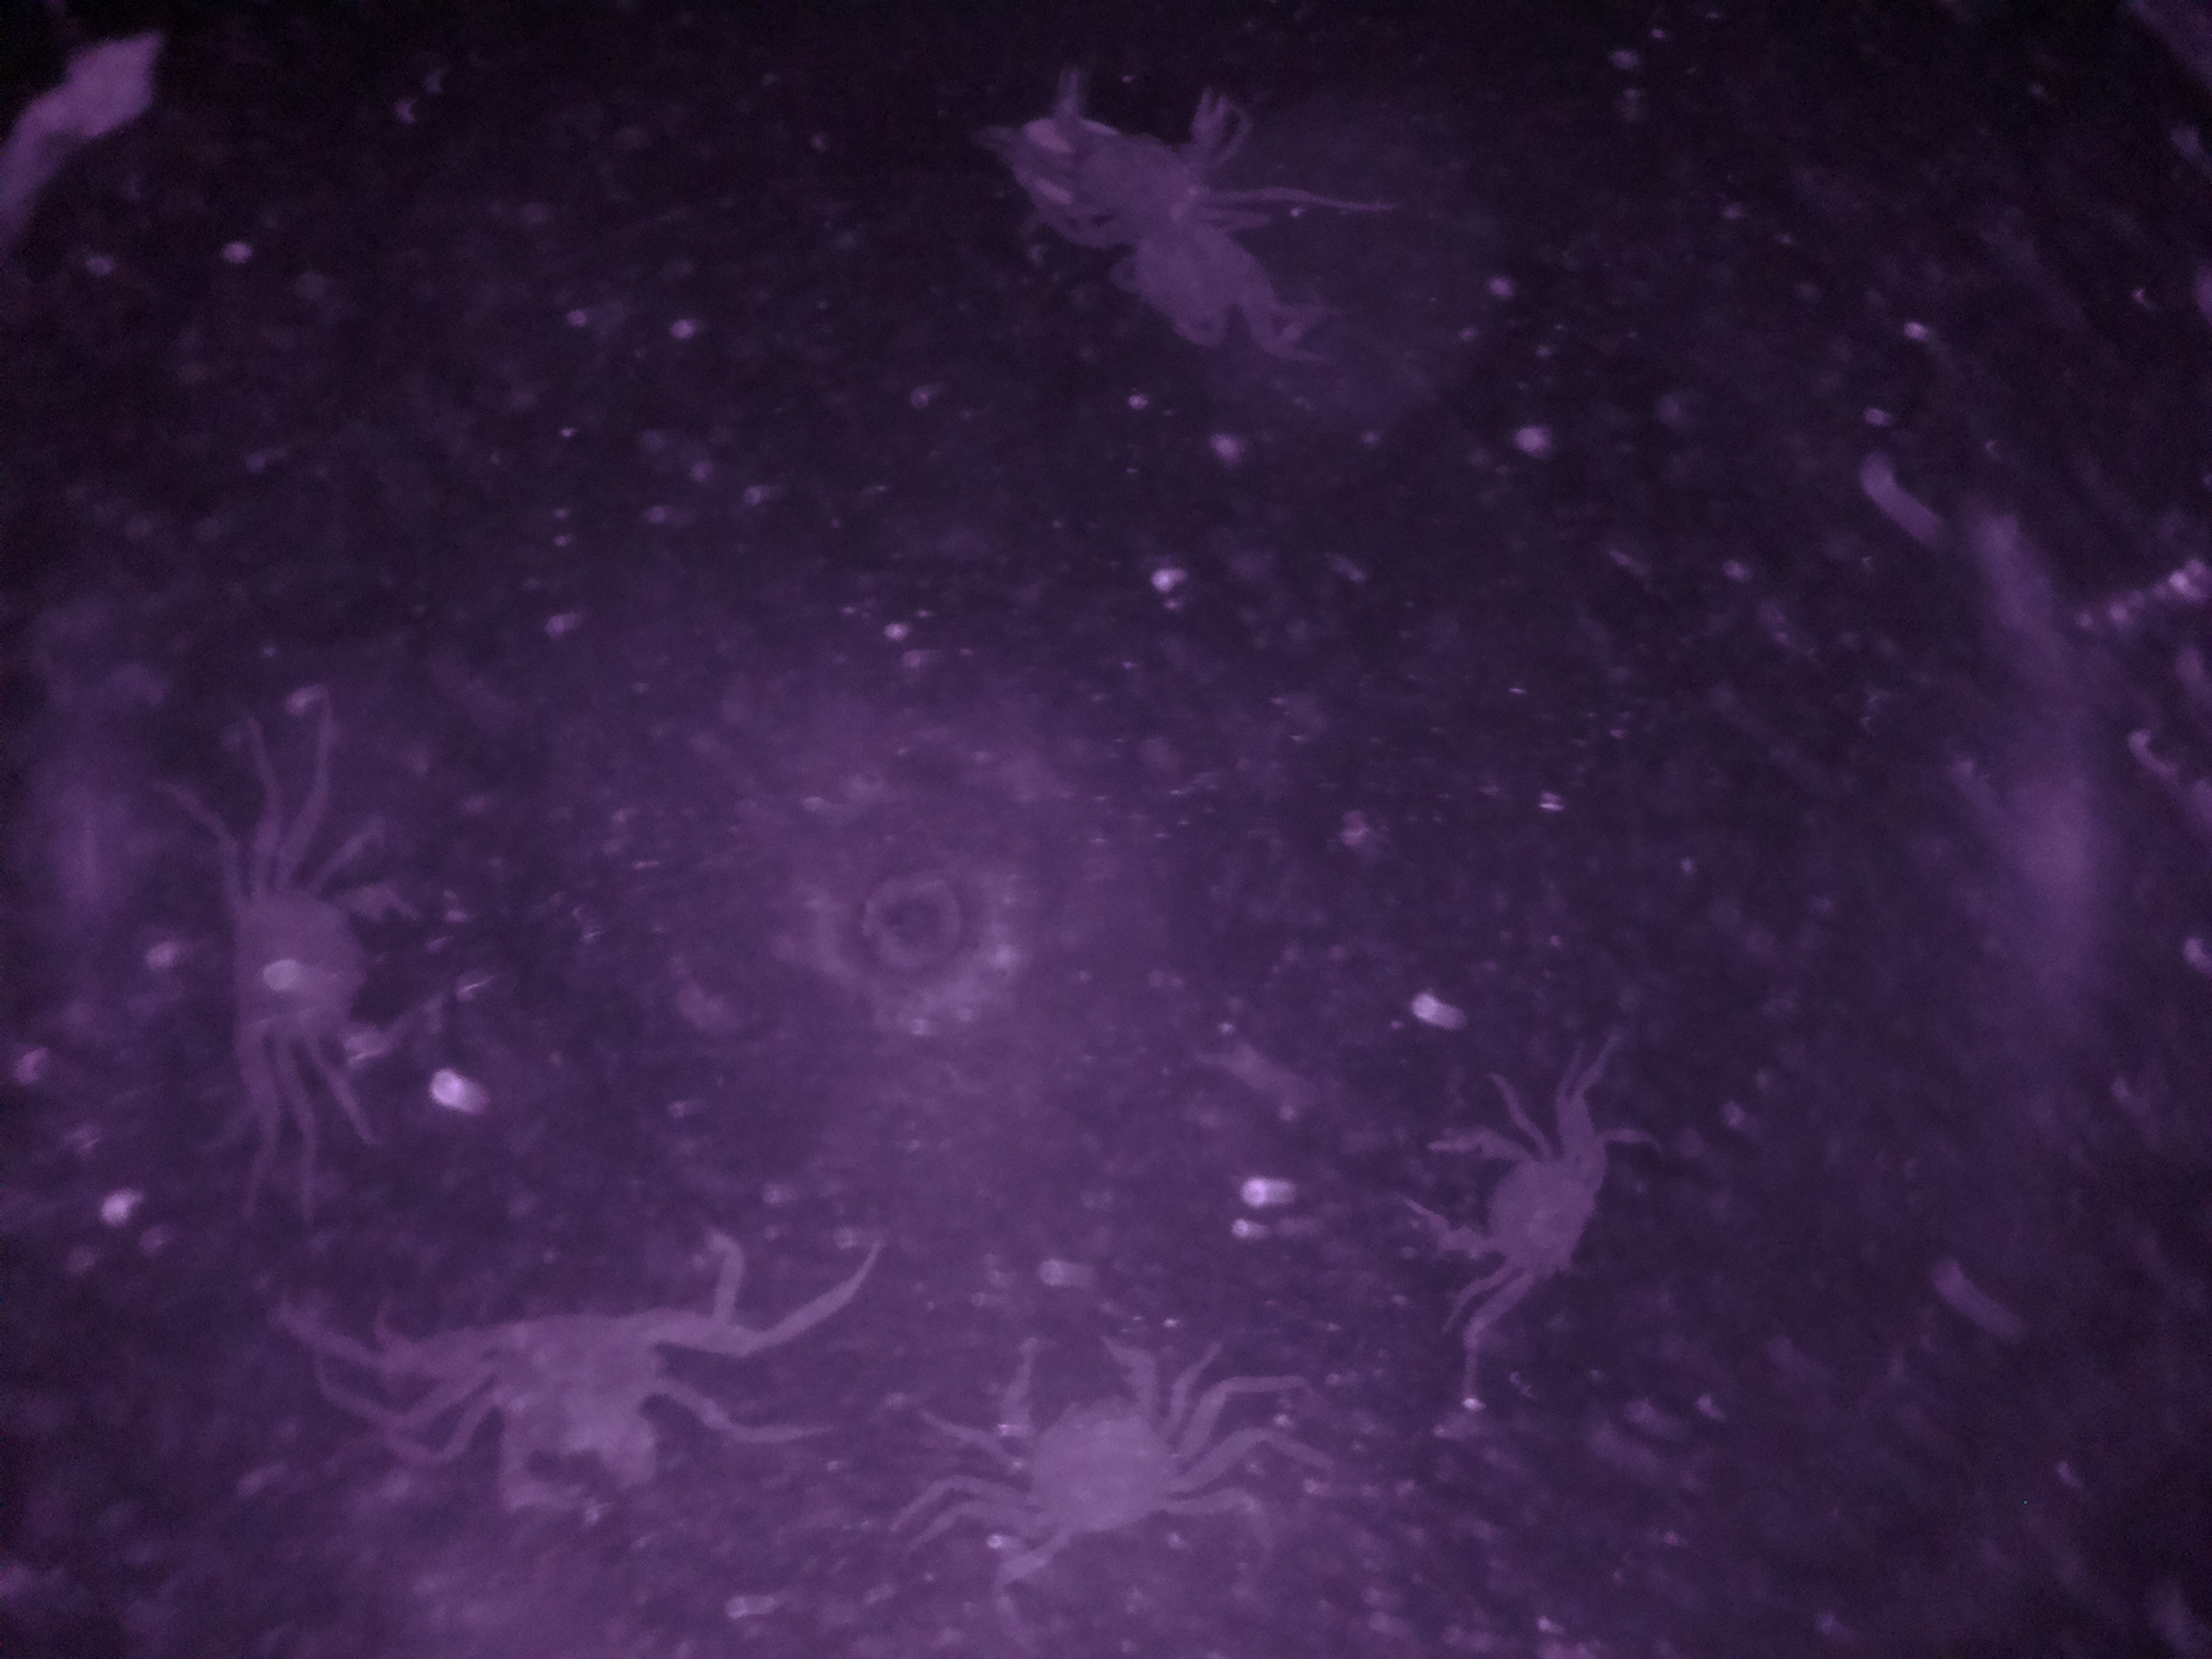Crab: (944, 1310, 1228, 1579), (1385, 1110, 1622, 1310)
